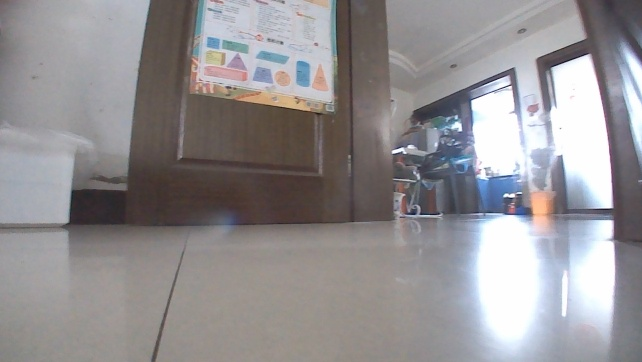door_anno: (120, 0, 395, 227)
